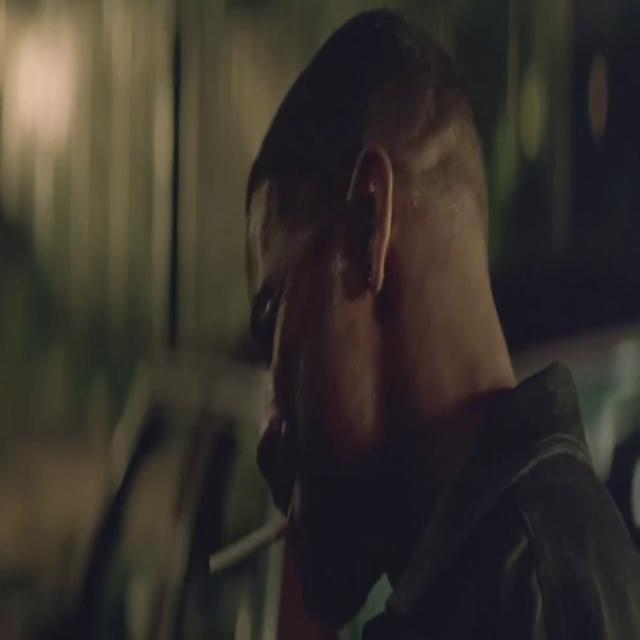Smooking: (194, 506, 299, 582)
